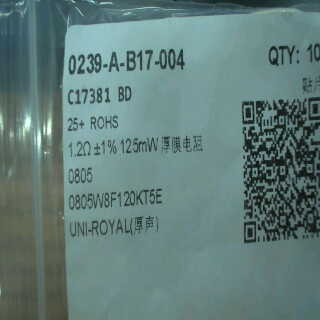1.2R: (68, 138, 93, 183)
